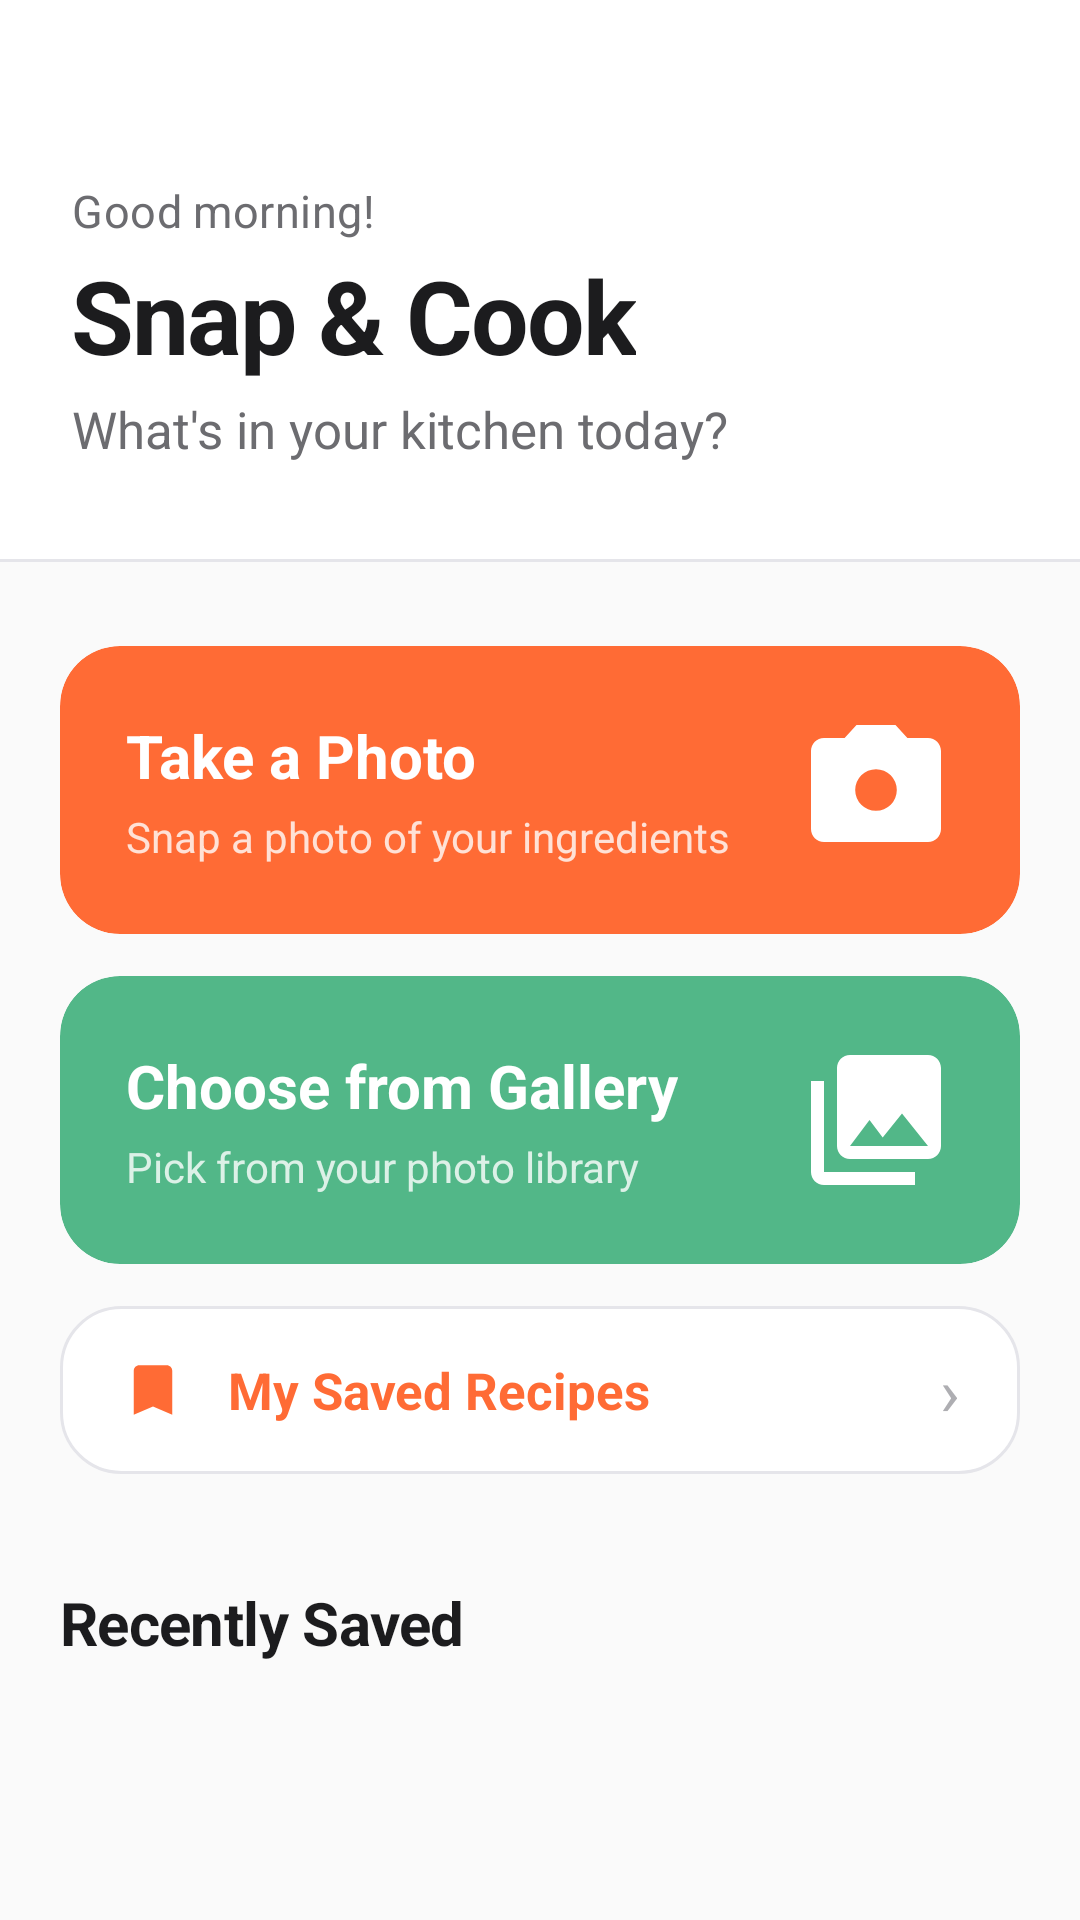

Point at icon controls on the screen. Image size 1080x1920, points as point (x, y).
bookmark: point (153, 1390)
Take photo of ingredients: point (876, 783)
